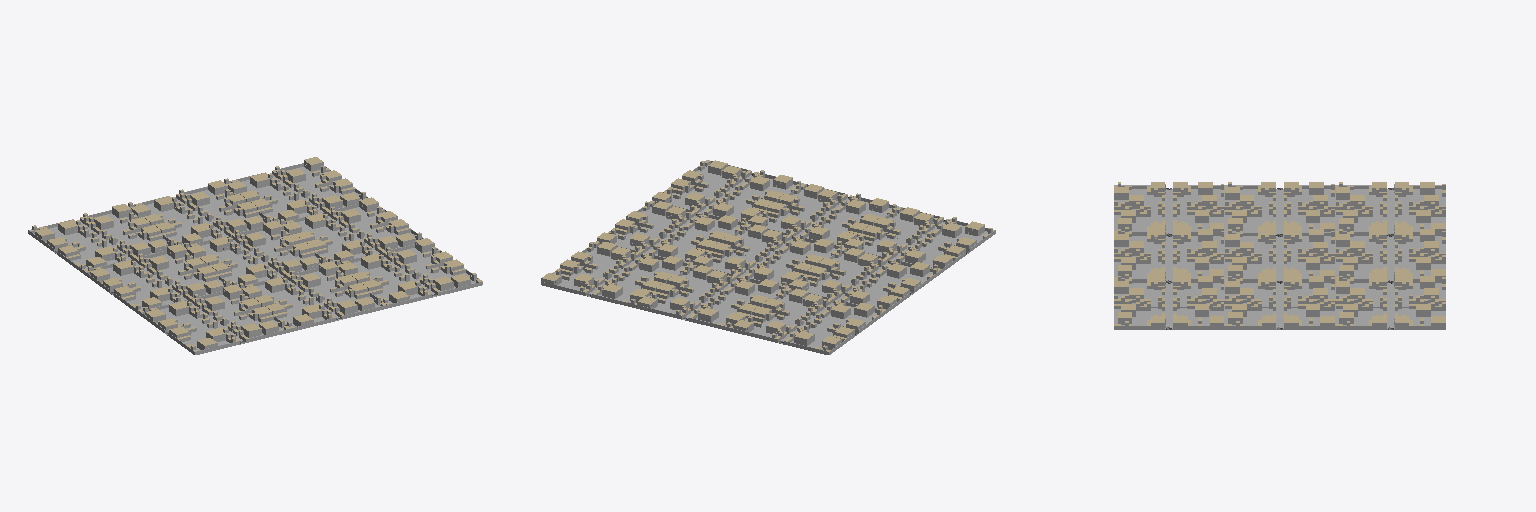
File: town.obj
3 views of the same model, side by side, from view 1: azimuth 30°, elevation 25°; view 2: azimuth 150°, elevation 25°; view 3: azimuth 270°, elevation 25° (orthographic).
Visible parts, largest first — view 1: subdivis99.089; view 2: subdivis99.089; view 3: subdivis99.089.
Boxes of the visible parts, x1=… form: subdivis99.089: x1=28, y1=157, x2=482, y2=354; subdivis99.089: x1=541, y1=160, x2=995, y2=354; subdivis99.089: x1=1114, y1=182, x2=1445, y2=329.
Bounding box in the file's own units: 29.43 × 0.6851 × 29.29.